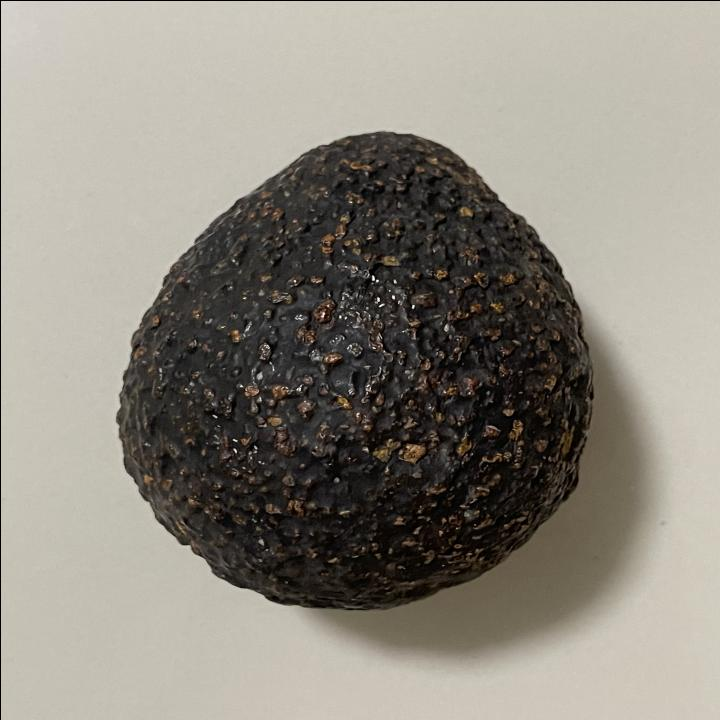Level3: (105, 122, 606, 622)
